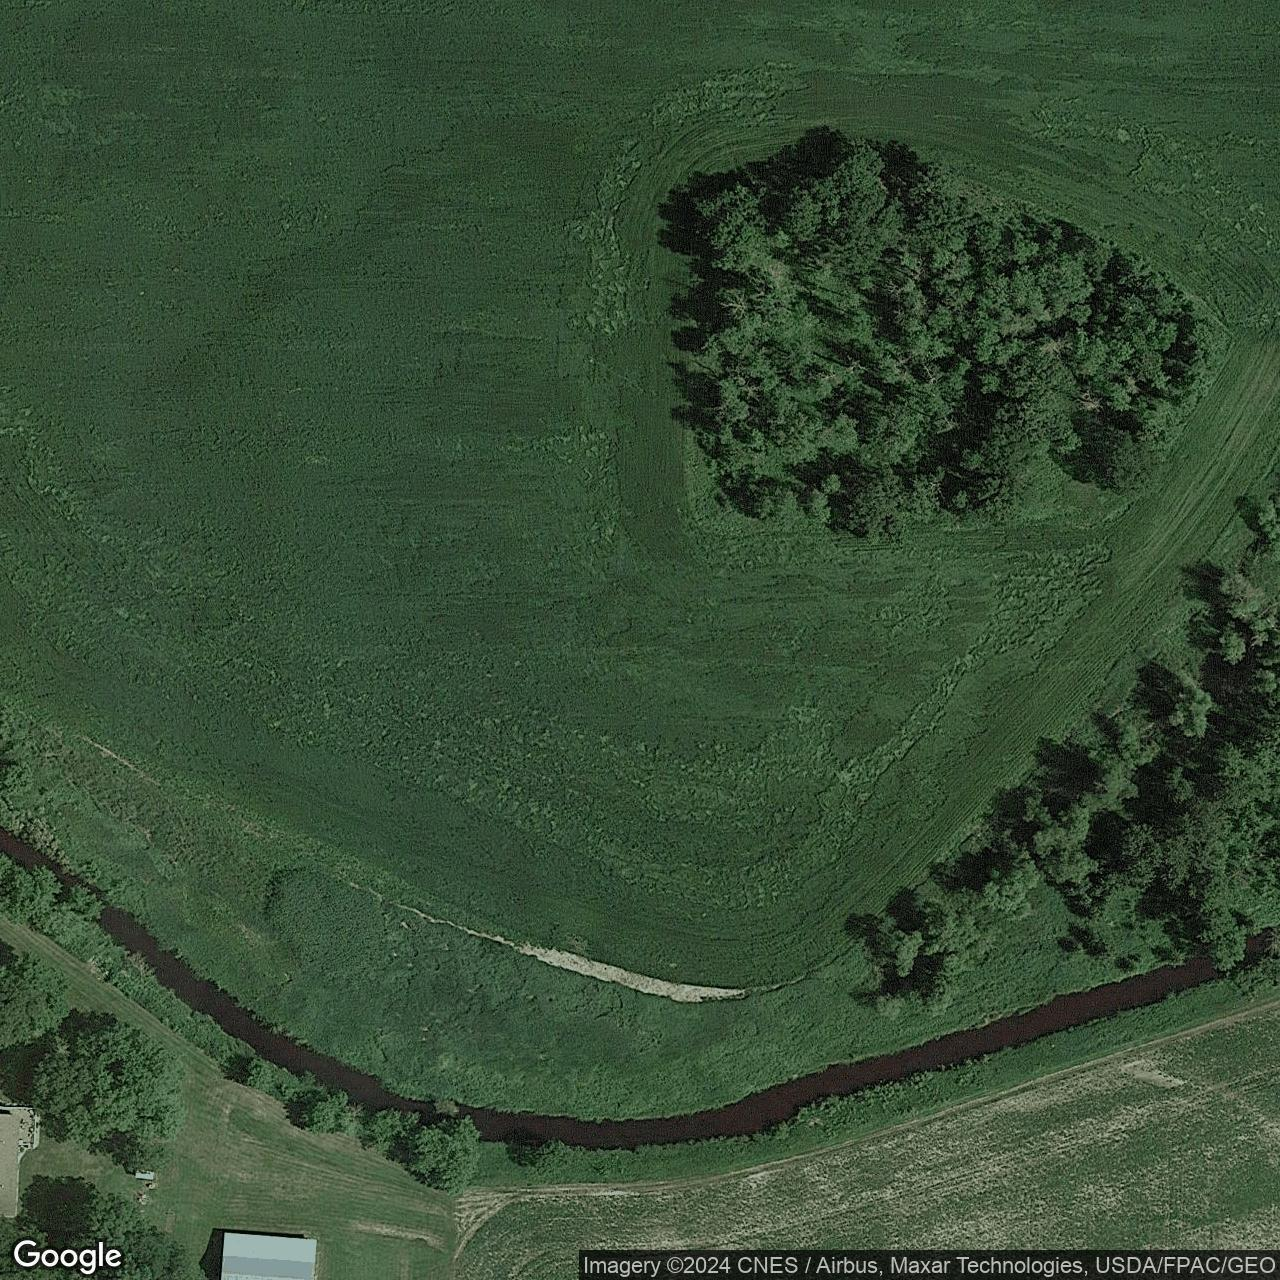House: (220, 1228, 318, 1279)
